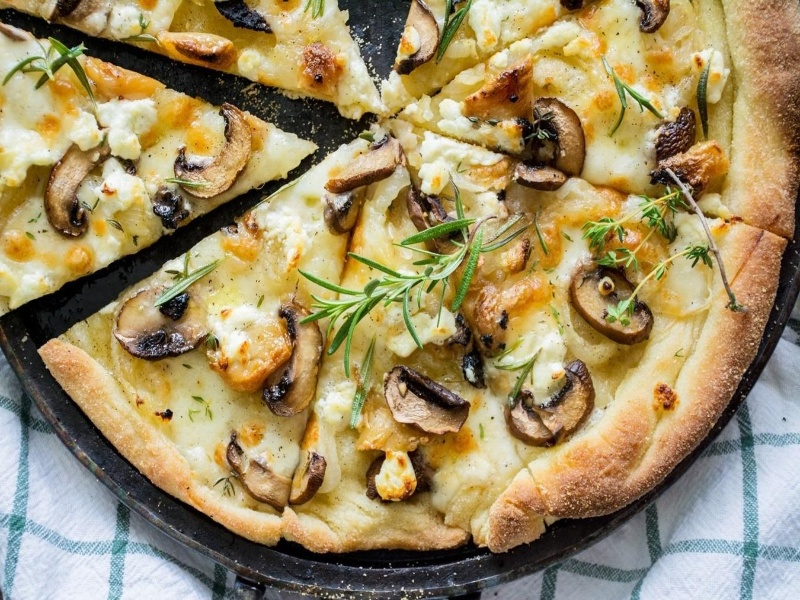champignon: (166, 101, 265, 206), (375, 356, 481, 444), (254, 304, 330, 426), (562, 261, 660, 347), (502, 362, 597, 447), (42, 131, 112, 241)
